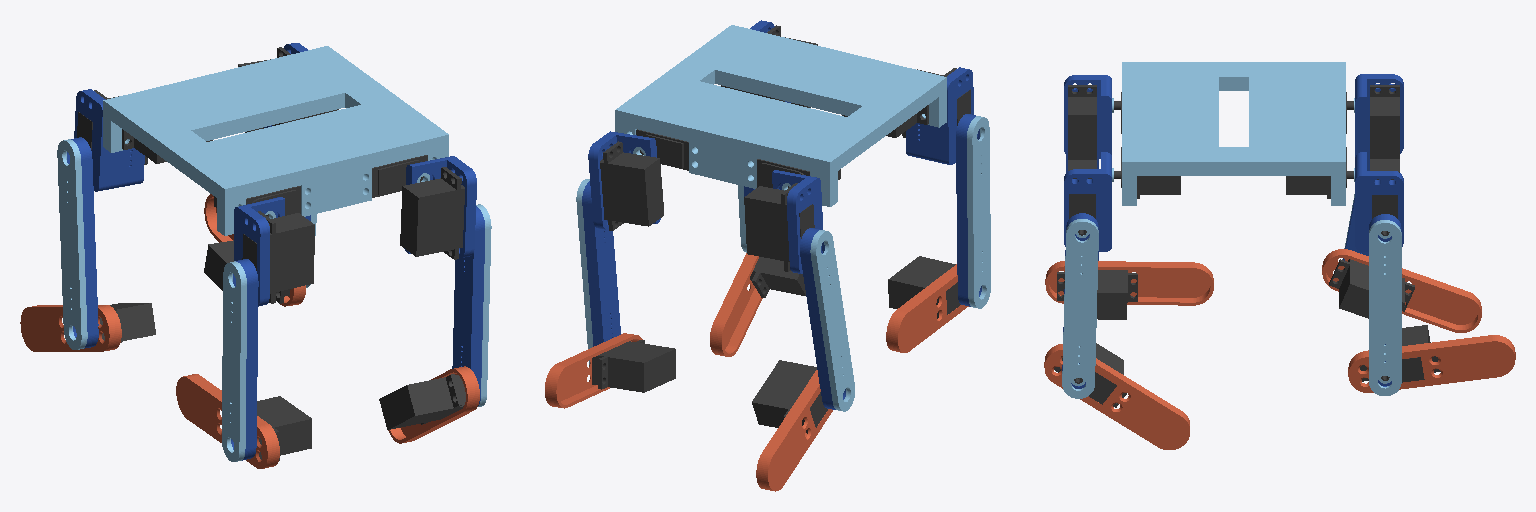
--- Render facts (derived) ---
3 views of the same robot in one strip: view 1: azimuth 30°, elevation 25°; view 2: azimuth 150°, elevation 25°; view 3: azimuth 270°, elevation 25° (orthographic).
Model catbot with 13 links and 12 joints (12 revolute), rooted at mainbody, posed every joint at zero.
Links seen in each view (by area): view 1: mainbody, toplegasm_4, toplegasm_2, hipsubasm, mirroredhipsubasm, botlegasm_2, toplegasm, botlegasm, botlegasm_4, hipsubasm_2, botlegasm_3; view 2: mainbody, botlegasm_4, toplegasm_2, mirroredhipsubasm_2, toplegasm_4, botlegasm_3, hipsubasm_2, botlegasm_2, toplegasm_3, botlegasm, mirroredhipsubasm; view 3: mainbody, botlegasm_2, botlegasm_3, toplegasm, botlegasm_4, toplegasm_3, botlegasm, hipsubasm_2, mirroredhipsubasm, mirroredhipsubasm_2, hipsubasm.
Boxes of the visible links, x1,y1,x2,y2 form: mainbody: (103, 46, 448, 235); toplegasm_4: (57, 137, 98, 349); toplegasm_2: (222, 259, 258, 461); hipsubasm: (400, 156, 476, 259); mirroredhipsubasm: (234, 197, 314, 306); botlegasm_2: (176, 374, 311, 468); toplegasm: (452, 204, 491, 406); botlegasm: (379, 366, 479, 443); botlegasm_4: (20, 303, 155, 351); hipsubasm_2: (74, 89, 147, 191); botlegasm_3: (204, 194, 305, 306); mainbody: (615, 25, 946, 206); botlegasm_4: (752, 360, 832, 491); toplegasm_2: (956, 114, 990, 308); mirroredhipsubasm_2: (588, 131, 663, 230); toplegasm_4: (800, 228, 854, 411); botlegasm_3: (545, 333, 675, 408); hipsubasm_2: (744, 170, 822, 273); botlegasm_2: (886, 256, 968, 352); toplegasm_3: (576, 179, 620, 364); botlegasm: (710, 253, 805, 356); mirroredhipsubasm: (902, 67, 973, 164); mainbody: (1114, 62, 1353, 205); botlegasm_2: (1045, 261, 1213, 319); botlegasm_3: (1348, 325, 1515, 392); toplegasm: (1062, 213, 1098, 398); botlegasm_4: (1322, 249, 1481, 332); toplegasm_3: (1369, 214, 1401, 395); botlegasm: (1044, 343, 1189, 449); hipsubasm_2: (1354, 74, 1403, 158); mirroredhipsubasm: (1064, 75, 1113, 159); mirroredhipsubasm_2: (1354, 152, 1403, 251); hipsubasm: (1064, 152, 1113, 251).
Size in the robot's own frame: 0.1865 by 0.3159 by 0.2182 metres.
41 mesh visuals loaded from 8 distinct referenced files (8 binary STL).

robot.urdf — catbot:
<?xml version="1.0" ?>
<!-- =================================================================================== -->
<!-- |    This document was autogenerated by xacro from catbot.xacro                   | -->
<!-- |    EDITING THIS FILE BY HAND IS NOT RECOMMENDED                                 | -->
<!-- =================================================================================== -->
<robot name="catbot">
  <link name="mainbody">
    <visual>
      <origin rpy="3.141592653589793116 -8.3266726846886728206e-17 3.141592653589793116" xyz="-0.039050405919551792189 -0.1803153499960899464 0.25655598676204682818"/>
      <geometry>
        <mesh filename="package://servobot/description/base.stl"/>
      </geometry>
      <material name="base_material">
        <color rgba="0.61568627450980395466 0.81176470588235294379 0.92941176470588238168 1.0"/>
      </material>
    </visual>
    <collision>
      <origin rpy="3.141592653589793116 -8.3266726846886728206e-17 3.141592653589793116" xyz="-0.039050405919551792189 -0.1803153499960899464 0.25655598676204682818"/>
      <geometry>
        <mesh filename="package://servobot/description/base.stl"/>
      </geometry>
    </collision>
    <visual>
      <origin rpy="0 8.3266726846886728206e-17 0" xyz="-0.16405040591955188933 -0.1405903499960899361 0.23555598676204680952"/>
      <geometry>
        <mesh filename="package://servobot/description/servo.stl"/>
      </geometry>
      <material name="servo_material">
        <color rgba="0.30196078431372547213 0.30196078431372547213 0.30196078431372547213 1.0"/>
      </material>
    </visual>
    <collision>
      <origin rpy="0 8.3266726846886728206e-17 0" xyz="-0.16405040591955188933 -0.1405903499960899361 0.23555598676204680952"/>
      <geometry>
        <mesh filename="package://servobot/description/servo.stl"/>
      </geometry>
    </collision>
    <visual>
      <origin rpy="3.141592653589793116 8.326672684688671588e-17 1.2325951644078224615e-32" xyz="-0.16405040591955183382 -0.070040349996089934503 0.23555598676204680952"/>
      <geometry>
        <mesh filename="package://servobot/description/servo.stl"/>
      </geometry>
      <material name="servo_material">
        <color rgba="0.30196078431372547213 0.30196078431372547213 0.30196078431372547213 1.0"/>
      </material>
    </visual>
    <collision>
      <origin rpy="3.141592653589793116 8.326672684688671588e-17 1.2325951644078224615e-32" xyz="-0.16405040591955183382 -0.070040349996089934503 0.23555598676204680952"/>
      <geometry>
        <mesh filename="package://servobot/description/servo.stl"/>
      </geometry>
    </collision>
    <visual>
      <origin rpy="8.5528470722950151288e-48 -8.3266726846886691228e-17 -3.141592653589793116" xyz="-0.074050405919551823275 -0.070040349996089962259 0.23555598676204683728"/>
      <geometry>
        <mesh filename="package://servobot/description/servo.stl"/>
      </geometry>
      <material name="servo_material">
        <color rgba="0.30196078431372547213 0.30196078431372547213 0.30196078431372547213 1.0"/>
      </material>
    </visual>
    <collision>
      <origin rpy="8.5528470722950151288e-48 -8.3266726846886691228e-17 -3.141592653589793116" xyz="-0.074050405919551823275 -0.070040349996089962259 0.23555598676204683728"/>
      <geometry>
        <mesh filename="package://servobot/description/servo.stl"/>
      </geometry>
    </collision>
    <visual>
      <origin rpy="3.141592653589793116 -8.3266726846886728206e-17 3.141592653589793116" xyz="-0.074050405919551823275 -0.1405903499960899361 0.23555598676204680952"/>
      <geometry>
        <mesh filename="package://servobot/description/servo.stl"/>
      </geometry>
      <material name="servo_material">
        <color rgba="0.30196078431372547213 0.30196078431372547213 0.30196078431372547213 1.0"/>
      </material>
    </visual>
    <collision>
      <origin rpy="3.141592653589793116 -8.3266726846886728206e-17 3.141592653589793116" xyz="-0.074050405919551823275 -0.1405903499960899361 0.23555598676204680952"/>
      <geometry>
        <mesh filename="package://servobot/description/servo.stl"/>
      </geometry>
    </collision>
    <inertial>
      <origin rpy="0 0 0" xyz="-0.11905040591955190488 -0.10531534999608997694 0.24437579780986765088"/>
      <mass value="0.49394823622559713705"/>
      <inertia ixx="0.0013840746330419674819" ixy="-1.084202172485504434e-19" ixz="7.7927031147395631194e-20" iyy="0.0011298530871705141868" iyz="-6.7762635780344027125e-21" izz="0.0024313774487411490312"/>
    </inertial>
  </link>
  <link name="hipsubasm">
    <visual>
      <origin rpy="-1.570796326794896558 -1.570796326794896336 0" xyz="0.009999999999999995004 -0.017290000000000027569 -0.016249999999999986677"/>
      <geometry>
        <mesh filename="package://servobot/description/hipjoint.stl"/>
      </geometry>
      <material name="hipjoint_material">
        <color rgba="0.2313725490196078538 0.38039215686274507888 0.7058823529411765163 1.0"/>
      </material>
    </visual>
    <collision>
      <origin rpy="-1.570796326794896558 -1.570796326794896336 0" xyz="0.009999999999999995004 -0.017290000000000027569 -0.016249999999999986677"/>
      <geometry>
        <mesh filename="package://servobot/description/hipjoint.stl"/>
      </geometry>
    </collision>
    <visual>
      <origin rpy="3.1415926535897926719 -1.4578757702189871054e-16 1.5707963267948981123" xyz="0.018199999999999022515 -0.018114999999999603641 -0.019999999999999962252"/>
      <geometry>
        <mesh filename="package://servobot/description/servo.stl"/>
      </geometry>
      <material name="servo_material">
        <color rgba="0.30196078431372547213 0.30196078431372547213 0.30196078431372547213 1.0"/>
      </material>
    </visual>
    <collision>
      <origin rpy="3.1415926535897926719 -1.4578757702189871054e-16 1.5707963267948981123" xyz="0.018199999999999022515 -0.018114999999999603641 -0.019999999999999962252"/>
      <geometry>
        <mesh filename="package://servobot/description/servo.stl"/>
      </geometry>
    </collision>
    <visual>
      <origin rpy="3.141592653589793116 -1.4578757702189525927e-16 1.5707963267948976682" xyz="-1.3877787807814456755e-17 -2.7755575615628913511e-17 0.0010000000000000008882"/>
      <geometry>
        <mesh filename="package://servobot/description/servohornreplacement.stl"/>
      </geometry>
      <material name="servohornreplacement_material">
        <color rgba="0.61568627450980395466 0.81176470588235294379 0.92941176470588238168 1.0"/>
      </material>
    </visual>
    <collision>
      <origin rpy="3.141592653589793116 -1.4578757702189525927e-16 1.5707963267948976682" xyz="-1.3877787807814456755e-17 -2.7755575615628913511e-17 0.0010000000000000008882"/>
      <geometry>
        <mesh filename="package://servobot/description/servohornreplacement.stl"/>
      </geometry>
    </collision>
    <inertial>
      <origin rpy="0 0 0" xyz="-0.0044848749450654163545 -0.0179728161393723114 -0.016098061730134432396"/>
      <mass value="0.066123103332140956145"/>
      <inertia ixx="1.8384618926580121391e-05" ixy="9.1018315654018470232e-08" ixz="5.6546937137399404566e-07" iyy="1.4043653005047446121e-05" iyz="-8.5254427329847590665e-08" izz="2.2086490787454833752e-05"/>
    </inertial>
  </link>
  <link name="toplegasm">
    <visual>
      <origin rpy="6.4535680925625176344e-18 1.1053377210876282197e-19 -1.1334232708083540627e-18" xyz="2.7755575615628913511e-17 2.7755575615628913511e-17 -0.0057999999999999926614"/>
      <geometry>
        <mesh filename="package://servobot/description/servohornreplacement.stl"/>
      </geometry>
      <material name="servohornreplacement_material">
        <color rgba="0.61568627450980395466 0.81176470588235294379 0.92941176470588238168 1.0"/>
      </material>
    </visual>
    <collision>
      <origin rpy="6.4535680925625176344e-18 1.1053377210876282197e-19 -1.1334232708083540627e-18" xyz="2.7755575615628913511e-17 2.7755575615628913511e-17 -0.0057999999999999926614"/>
      <geometry>
        <mesh filename="package://servobot/description/servohornreplacement.stl"/>
      </geometry>
    </collision>
    <visual>
      <origin rpy="1.5707963267949027752 9.7283936021392146528e-17 4.2901527244577466862e-16" xyz="-2.7755575615628913511e-17 0.055999999999999994227 -0.0078999999999999695466"/>
      <geometry>
        <mesh filename="package://servobot/description/toplegcover.stl"/>
      </geometry>
      <material name="toplegcover_material">
        <color rgba="0.61568627450980395466 0.81176470588235294379 0.92941176470588238168 1.0"/>
      </material>
    </visual>
    <collision>
      <origin rpy="1.5707963267949027752 9.7283936021392146528e-17 4.2901527244577466862e-16" xyz="-2.7755575615628913511e-17 0.055999999999999994227 -0.0078999999999999695466"/>
      <geometry>
        <mesh filename="package://servobot/description/toplegcover.stl"/>
      </geometry>
    </collision>
    <visual>
      <origin rpy="-2.8269602114824775556e-16 -1.0911851513935710802e-15 -7.0458042872546368885e-16" xyz="-2.7755575615628913511e-17 0.11199999999999990519 -0.0057999999999999371503"/>
      <geometry>
        <mesh filename="package://servobot/description/servohornreplacement.stl"/>
      </geometry>
      <material name="servohornreplacement_material">
        <color rgba="0.61568627450980395466 0.81176470588235294379 0.92941176470588238168 1.0"/>
      </material>
    </visual>
    <collision>
      <origin rpy="-2.8269602114824775556e-16 -1.0911851513935710802e-15 -7.0458042872546368885e-16" xyz="-2.7755575615628913511e-17 0.11199999999999990519 -0.0057999999999999371503"/>
      <geometry>
        <mesh filename="package://servobot/description/servohornreplacement.stl"/>
      </geometry>
    </collision>
    <visual>
      <origin rpy="4.7127242992031974377e-16 9.8319183968485824968e-17 4.3206131669943434475e-16" xyz="2.7755575615628913511e-17 0.055999999999999966471 -0.0078999999999999695466"/>
      <geometry>
        <mesh filename="package://servobot/description/topleg.stl"/>
      </geometry>
      <material name="topleg_material">
        <color rgba="0.2313725490196078538 0.38039215686274507888 0.7058823529411765163 1.0"/>
      </material>
    </visual>
    <collision>
      <origin rpy="4.7127242992031974377e-16 9.8319183968485824968e-17 4.3206131669943434475e-16" xyz="2.7755575615628913511e-17 0.055999999999999966471 -0.0078999999999999695466"/>
      <geometry>
        <mesh filename="package://servobot/description/topleg.stl"/>
      </geometry>
    </collision>
    <inertial>
      <origin rpy="0 0 0" xyz="1.3736162901867244619e-17 0.05599999999999997341 -0.0036685463244520771439"/>
      <mass value="0.025684018857765292254"/>
      <inertia ixx="3.3957308422224581862e-05" ixy="1.4605197478834002945e-20" ixz="-1.4471443186448996313e-20" iyy="1.2113689959083558375e-06" iyz="-2.2765166865918425964e-20" izz="3.4913600077066402234e-05"/>
    </inertial>
  </link>
  <link name="botlegasm">
    <visual>
      <origin rpy="-1.570796326794896558 1.8065148292601759323e-18 3.2327904654336294772e-17" xyz="0.010149999999999992362 1.3877787807814456755e-17 -0.040450000000000006783"/>
      <geometry>
        <mesh filename="package://servobot/description/servo.stl"/>
      </geometry>
      <material name="servo_material">
        <color rgba="0.30196078431372547213 0.30196078431372547213 0.30196078431372547213 1.0"/>
      </material>
    </visual>
    <collision>
      <origin rpy="-1.570796326794896558 1.8065148292601759323e-18 3.2327904654336294772e-17" xyz="0.010149999999999992362 1.3877787807814456755e-17 -0.040450000000000006783"/>
      <geometry>
        <mesh filename="package://servobot/description/servo.stl"/>
      </geometry>
    </collision>
    <visual>
      <origin rpy="1.5707963267948972241 6.736598363117247075e-18 -1.570796326794896558" xyz="0.031674480000000004853 -6.9388939039072283776e-18 2.5000000000004185541e-05"/>
      <geometry>
        <mesh filename="package://servobot/description/botleg.stl"/>
      </geometry>
      <material name="botleg_material">
        <color rgba="0.87450980392156862919 0.44705882352941178626 0.31764705882352939348 1.0"/>
      </material>
    </visual>
    <collision>
      <origin rpy="1.5707963267948972241 6.736598363117247075e-18 -1.570796326794896558" xyz="0.031674480000000004853 -6.9388939039072283776e-18 2.5000000000004185541e-05"/>
      <geometry>
        <mesh filename="package://servobot/description/botleg.stl"/>
      </geometry>
    </collision>
    <inertial>
      <origin rpy="0 0 0" xyz="0.014355235822870536511 3.4914390159032126384e-12 -0.017241727750089003157"/>
      <mass value="0.054645620986758416948"/>
      <inertia ixx="1.0916296677110458714e-05" ixy="7.8802063165292541799e-16" ixz="-3.3092987108633480716e-06" iyy="3.0288527521158881335e-05" iyz="-3.1738908324763525493e-15" izz="2.4422062954015746769e-05"/>
    </inertial>
  </link>
  <joint name="BR_BotLeg" type="revolute">
    <origin rpy="-3.1415926535897886751 -7.0938256185667662878e-15 0.58170270124798439948" xyz="-2.7755575615628913511e-17 0.11199999999999990519 5.5511151231257827021e-17"/>
    <parent link="toplegasm"/>
    <child link="botlegasm"/>
    <axis xyz="0 0 1"/>
    <limit effort="1" velocity="20"/>
    <joint_properties friction="0.0"/>
  </joint>
  <joint name="BR_TopLeg" type="revolute">
    <origin rpy="-1.5707963267948958919 -1.5476780753609129526 -1.5707963267949160979" xyz="-0.022249999999999943434 -0.028264999999999401714 -0.019999999999999990008"/>
    <parent link="hipsubasm"/>
    <child link="toplegasm"/>
    <axis xyz="0 0 1"/>
    <limit effort="1" lower="-1.570796326794896558" upper="1.570796326794896558" velocity="20"/>
    <joint_properties friction="0.0"/>
  </joint>
  <joint name="BR_Hip" type="revolute">
    <origin rpy="1.570796326794896558 -0.041547970194335065441 3.141592653589793116" xyz="-0.063900405919551844791 -0.18684034999608994942 0.23555598676204686504"/>
    <parent link="mainbody"/>
    <child link="hipsubasm"/>
    <axis xyz="0 0 1"/>
    <limit effort="1" lower="-0.785398163397448279" upper="0.785398163397448279" velocity="20"/>
    <joint_properties friction="0.0"/>
  </joint>
  <link name="mirroredhipsubasm">
    <visual>
      <origin rpy="-2.6082961837183532655e-16 -1.7701259958948961988e-16 -1.5707963267948961139" xyz="0.018199999999999966205 0.018114999999999936708 -0.020000000000000017764"/>
      <geometry>
        <mesh filename="package://servobot/description/servo.stl"/>
      </geometry>
      <material name="servo_material">
        <color rgba="0.30196078431372547213 0.30196078431372547213 0.30196078431372547213 1.0"/>
      </material>
    </visual>
    <collision>
      <origin rpy="-2.6082961837183532655e-16 -1.7701259958948961988e-16 -1.5707963267948961139" xyz="0.018199999999999966205 0.018114999999999936708 -0.020000000000000017764"/>
      <geometry>
        <mesh filename="package://servobot/description/servo.stl"/>
      </geometry>
    </collision>
    <visual>
      <origin rpy="1.570796326794896558 1.570796326794896336 0" xyz="0.0099999999999999811262 0.017289999999999972058 -0.023749999999999993339"/>
      <geometry>
        <mesh filename="package://servobot/description/mirrorhipjoint.stl"/>
      </geometry>
      <material name="mirrorhipjoint_material">
        <color rgba="0.2313725490196078538 0.38039215686274507888 0.7058823529411765163 1.0"/>
      </material>
    </visual>
    <collision>
      <origin rpy="1.570796326794896558 1.570796326794896336 0" xyz="0.0099999999999999811262 0.017289999999999972058 -0.023749999999999993339"/>
      <geometry>
        <mesh filename="package://servobot/description/mirrorhipjoint.stl"/>
      </geometry>
    </collision>
    <visual>
      <origin rpy="-3.1415926535897926719 9.9992864631340462803e-17 3.141592653589793116" xyz="0 -2.7755575615628913511e-17 0.0010000000000000286438"/>
      <geometry>
        <mesh filename="package://servobot/description/servohornreplacement.stl"/>
      </geometry>
      <material name="servohornreplacement_material">
        <color rgba="0.61568627450980395466 0.81176470588235294379 0.92941176470588238168 1.0"/>
      </material>
    </visual>
    <collision>
      <origin rpy="-3.1415926535897926719 9.9992864631340462803e-17 3.141592653589793116" xyz="0 -2.7755575615628913511e-17 0.0010000000000000286438"/>
      <geometry>
        <mesh filename="package://servobot/description/servohornreplacement.stl"/>
      </geometry>
    </collision>
    <inertial>
      <origin rpy="0 0 0" xyz="-0.0044848749450651335946 0.017972816139372491812 -0.016098061730134460151"/>
      <mass value="0.066123103332140956145"/>
      <inertia ixx="1.8384618926580538131e-05" ixy="-9.101831565405955133e-08" ixz="5.654693713740800195e-07" iyy="1.4043653005047930624e-05" iyz="8.5254427329908709386e-08" izz="2.2086490787454935396e-05"/>
    </inertial>
  </link>
  <link name="toplegasm_2">
    <visual>
      <origin rpy="-8.7266791005281888125e-19 3.0532008149613898383e-32 2.0260783014953721174e-31" xyz="0 2.7755575615628913511e-17 -0.0057999999999999996003"/>
      <geometry>
        <mesh filename="package://servobot/description/servohornreplacement.stl"/>
      </geometry>
      <material name="servohornreplacement_material">
        <color rgba="0.61568627450980395466 0.81176470588235294379 0.92941176470588238168 1.0"/>
      </material>
    </visual>
    <collision>
      <origin rpy="-8.7266791005281888125e-19 3.0532008149613898383e-32 2.0260783014953721174e-31" xyz="0 2.7755575615628913511e-17 -0.0057999999999999996003"/>
      <geometry>
        <mesh filename="package://servobot/description/servohornreplacement.stl"/>
      </geometry>
    </collision>
    <visual>
      <origin rpy="1.5707963267948996666 -5.4942891350651959144e-18 1.8059105904150631138e-18" xyz="8.3266726846886740532e-17 0.056000000000000382805 -0.0078999999999998515854"/>
      <geometry>
        <mesh filename="package://servobot/description/toplegcover.stl"/>
      </geometry>
      <material name="toplegcover_material">
        <color rgba="0.61568627450980395466 0.81176470588235294379 0.92941176470588238168 1.0"/>
      </material>
    </visual>
    <collision>
      <origin rpy="1.5707963267948996666 -5.4942891350651959144e-18 1.8059105904150631138e-18" xyz="8.3266726846886740532e-17 0.056000000000000382805 -0.0078999999999998515854"/>
      <geometry>
        <mesh filename="package://servobot/description/toplegcover.stl"/>
      </geometry>
    </collision>
    <visual>
      <origin rpy="3.5133189178907857781e-15 7.0556949157424066037e-21 3.469768556812397091e-18" xyz="1.9428902930940239457e-16 0.11200000000000062683 -0.0057999999999996110223"/>
      <geometry>
        <mesh filename="package://servobot/description/servohornreplacement.stl"/>
      </geometry>
      <material name="servohornreplacement_material">
        <color rgba="0.61568627450980395466 0.81176470588235294379 0.92941176470588238168 1.0"/>
      </material>
    </visual>
    <collision>
      <origin rpy="3.5133189178907857781e-15 7.0556949157424066037e-21 3.469768556812397091e-18" xyz="1.9428902930940239457e-16 0.11200000000000062683 -0.0057999999999996110223"/>
      <geometry>
        <mesh filename="package://servobot/description/servohornreplacement.stl"/>
      </geometry>
    </collision>
    <visual>
      <origin rpy="3.5098494709388321639e-15 1.2747625593706508062e-21 1.7348578419795400101e-18" xyz="8.3266726846886740532e-17 0.056000000000000327294 -0.0078999999999998238298"/>
      <geometry>
        <mesh filename="package://servobot/description/topleg.stl"/>
      </geometry>
      <material name="topleg_material">
        <color rgba="0.2313725490196078538 0.38039215686274507888 0.7058823529411765163 1.0"/>
      </material>
    </visual>
    <collision>
      <origin rpy="3.5098494709388321639e-15 1.2747625593706508062e-21 1.7348578419795400101e-18" xyz="8.3266726846886740532e-17 0.056000000000000327294 -0.0078999999999998238298"/>
      <geometry>
        <mesh filename="package://servobot/description/topleg.stl"/>
      </geometry>
    </collision>
    <inertial>
      <origin rpy="0 0 0" xyz="7.8537835927160718487e-17 0.056000000000000341172 -0.0036685463244519214525"/>
      <mass value="0.025684018857765292254"/>
      <inertia ixx="3.3957308422224920675e-05" ixy="-2.0629561261755546244e-21" ixz="5.2531036313452856353e-20" iyy="1.2113689959083712958e-06" iyz="-3.7847965899051524873e-21" izz="3.4913600077066578417e-05"/>
    </inertial>
  </link>
  <link name="botlegasm_2">
    <visual>
      <origin rpy="-1.570796326794896558 8.055100413464512593e-22 1.7056915740222492149e-18" xyz="0.010149999999999992362 1.3877787807814456755e-17 -0.040449999999999985967"/>
      <geometry>
        <mesh filename="package://servobot/description/servo.stl"/>
      </geometry>
      <material name="servo_material">
        <color rgba="0.30196078431372547213 0.30196078431372547213 0.30196078431372547213 1.0"/>
      </material>
    </visual>
    <collision>
      <origin rpy="-1.570796326794896558 8.055100413464512593e-22 1.7056915740222492149e-18" xyz="0.010149999999999992362 1.3877787807814456755e-17 -0.040449999999999985967"/>
      <geometry>
        <mesh filename="package://servobot/description/servo.stl"/>
      </geometry>
    </collision>
    <visual>
      <origin rpy="1.570796326794896558 3.1787495007411310963e-16 -1.570796326794896336" xyz="0.031674480000000032609 0 2.4999999999997246647e-05"/>
      <geometry>
        <mesh filename="package://servobot/description/botleg.stl"/>
      </geometry>
      <material name="botleg_material">
        <color rgba="0.87450980392156862919 0.44705882352941178626 0.31764705882352939348 1.0"/>
      </material>
    </visual>
    <collision>
      <origin rpy="1.570796326794896558 3.1787495007411310963e-16 -1.570796326794896336" xyz="0.031674480000000032609 0 2.4999999999997246647e-05"/>
      <geometry>
        <mesh filename="package://servobot/description/botleg.stl"/>
      </geometry>
    </collision>
    <inertial>
      <origin rpy="0 0 0" xyz="0.01435523582287053998 3.4914399578262060761e-12 -0.017241727750088992749"/>
      <mass value="0.054645620986758416948"/>
      <inertia ixx="1.091629667711044855e-05" ixy="7.8801665499142670343e-16" ixz="-3.3092987108633302839e-06" iyy="3.0288527521159030412e-05" iyz="-3.1738829266149533627e-15" izz="2.4422062954015750157e-05"/>
    </inertial>
  </link>
  <joint name="BL_BotLeg" type="revolute">
    <origin rpy="3.1415926535897926719 -1.0243549092722601103e-15 3.1262445307774839875" xyz="1.9428902930940239457e-16 0.11200000000000062683 3.8857805861880478915e-16"/>
    <parent link="toplegasm_2"/>
    <child link="botlegasm_2"/>
    <axis xyz="0 0 1"/>
    <limit effort="1" velocity="20"/>
    <joint_properties friction="0.0"/>
  </joint>
  <joint name="BL_TopLeg" type="revolute">
    <origin rpy="1.0152967728242205898e-15 1.5707963267948952257 0" xyz="-0.022250000000000019762 0.02826499999999992907 -0.020000000000000017764"/>
    <parent link="mirroredhipsubasm"/>
    <child link="toplegasm_2"/>
    <axis xyz="0 0 1"/>
    <limit effort="1" lower="-1.570796326794896558" upper="1.570796326794896558" velocity="20"/>
    <joint_properties friction="0.0"/>
  </joint>
  <joint name="BL_Hip" type="revolute">
    <origin rpy="-1.57079632679489678 0.0117328984293165791 1.2601170739682348073e-15" xyz="-0.17420040591955210374 -0.18684034999608997718 0.23555598676204667075"/>
    <parent link="mainbody"/>
    <child link="mirroredhipsubasm"/>
    <axis xyz="0 0 1"/>
    <limit effort="1" lower="-0.785398163397448279" upper="0.785398163397448279" velocity="20"/>
    <joint_properties friction="0.0"/>
  </joint>
  <link name="mirroredhipsubasm_2">
    <visual>
      <origin rpy="-2.6082961837181299193e-16 -1.7701259958947004627e-16 -1.570796326794896336" xyz="0.018199999999999896816 0.018115000000000103242 -0.020000000000000014294"/>
      <geometry>
        <mesh filename="package://servobot/description/servo.stl"/>
      </geometry>
      <material name="servo_material">
        <color rgba="0.30196078431372547213 0.30196078431372547213 0.30196078431372547213 1.0"/>
      </material>
    </visual>
    <collision>
      <origin rpy="-2.6082961837181299193e-16 -1.7701259958947004627e-16 -1.570796326794896336" xyz="0.018199999999999896816 0.018115000000000103242 -0.020000000000000014294"/>
      <geometry>
        <mesh filename="package://servobot/description/servo.stl"/>
      </geometry>
    </collision>
    <visual>
      <origin rpy="1.570796326794896558 1.570796326794896336 0" xyz="0.009999999999999995004 0.017289999999999999813 -0.023750000000000003747"/>
      <geometry>
        <mesh filename="package://servobot/description/mirrorhipjoint.stl"/>
      </geometry>
      <material name="mirrorhipjoint_material">
        <color rgba="0.2313725490196078538 0.38039215686274507888 0.7058823529411765163 1.0"/>
      </material>
    </visual>
    <collision>
      <origin rpy="1.570796326794896558 1.570796326794896336 0" xyz="0.009999999999999995004 0.017289999999999999813 -0.023750000000000003747"/>
      <geometry>
        <mesh filename="package://servobot/description/mirrorhipjoint.stl"/>
      </geometry>
    </collision>
    <visual>
      <origin rpy="-3.141592653589793116 -8.5063560020394949213e-16 -3.141592653589793116" xyz="-1.3877787807814456755e-17 0 0.00099999999999999741873"/>
      <geometry>
        <mesh filename="package://servobot/description/servohornreplacement.stl"/>
      </geometry>
      <material name="servohornreplacement_material">
        <color rgba="0.61568627450980395466 0.81176470588235294379 0.92941176470588238168 1.0"/>
      </material>
    </visual>
    <collision>
      <origin rpy="-3.141592653589793116 -8.5063560020394949213e-16 -3.141592653589793116" xyz="-1.3877787807814456755e-17 0 0.00099999999999999741873"/>
      <geometry>
        <mesh filename="package://servobot/description/servohornreplacement.stl"/>
      </geometry>
    </collision>
    <inertial>
      <origin rpy="0 0 0" xyz="-0.0044848749450651778301 0.017972816139372616712 -0.016098061730134460151"/>
      <mass value="0.066123103332140956145"/>
      <inertia ixx="1.8384618926580541519e-05" ixy="-9.1018315654073249441e-08" ixz="5.6546937137406360824e-07" iyy="1.4043653005047911989e-05" iyz="8.5254427329935179166e-08" izz="2.2086490787454918455e-05"/>
    </inertial>
  </link>
  <link name="toplegasm_3">
    <visual>
      <origin rpy="6.7942467602186101967e-19 8.0579397599774070036e-32 -1.2664528845269139064e-32" xyz="0 0 -0.0057999999999999926614"/>
      <geometry>
        <mesh filename="package://servobot/description/servohornreplacement.stl"/>
      </geometry>
      <material name="servohornreplacement_material">
        <color rgba="0.61568627450980395466 0.81176470588235294379 0.92941176470588238168 1.0"/>
      </material>
    </visual>
    <collision>
      <origin rpy="6.7942467602186101967e-19 8.0579397599774070036e-32 -1.2664528845269139064e-32" xyz="0 0 -0.0057999999999999926614"/>
      <geometry>
        <mesh filename="package://servobot/description/servohornreplacement.stl"/>
      </geometry>
    </collision>
    <visual>
      <origin rpy="1.5707963267948978903 -1.1134776791955550731e-15 9.2917581050318985147e-17" xyz="2.4286128663675299322e-17 0.056000000000001437517 -0.0079000000000000458744"/>
      <geometry>
        <mesh filename="package://servobot/description/toplegcover.stl"/>
      </geometry>
      <material name="toplegcover_material">
        <color rgba="0.61568627450980395466 0.81176470588235294379 0.92941176470588238168 1.0"/>
      </material>
    </visual>
    <collision>
      <origin rpy="1.5707963267948978903 -1.1134776791955550731e-15 9.2917581050318985147e-17" xyz="2.4286128663675299322e-17 0.056000000000001437517 -0.0079000000000000458744"/>
      <geometry>
        <mesh filename="package://servobot/description/toplegcover.stl"/>
      </geometry>
    </collision>
    <visual>
      <origin rpy="3.4267672224138618857e-15 -3.9512971347930942641e-15 7.9037649853328943305e-17" xyz="9.5843472047718591966e-17 0.11200000000000286116 -0.0058000000000000065392"/>
      <geometry>
        <mesh filename="package://servobot/description/servohornreplacement.stl"/>
      </geometry>
      <material name="servohornreplacement_material">
        <color rgba="0.61568627450980395466 0.81176470588235294379 0.92941176470588238168 1.0"/>
      </material>
    </visual>
    <collision>
      <origin rpy="3.4267672224138618857e-15 -3.9512971347930942641e-15 7.9037649853328943305e-17" xyz="9.5843472047718591966e-17 0.11200000000000286116 -0.0058000000000000065392"/>
      <geometry>
        <mesh filename="package://servobot/description/servohornreplacement.stl"/>
      </geometry>
    </collision>
    <visual>
      <origin rpy="1.2726230873573110323e-15 -1.1134776791955550731e-15 9.2917581050318972821e-17" xyz="6.8521577301083880229e-17 0.056000000000001437517 -0.0079000000000000528133"/>
      <geometry>
        <mesh filename="package://servobot/description/topleg.stl"/>
      </geometry>
      <material name="topleg_material">
        <color rgba="0.2313725490196078538 0.38039215686274507888 0.7058823529411765163 1.0"/>
      </material>
    </visual>
    <collision>
      <origin rpy="1.2726230873573110323e-15 -1.1134776791955550731e-15 9.2917581050318972821e-17" xyz="6.8521577301083880229e-17 0.056000000000001437517 -0.0079000000000000528133"/>
      <geometry>
        <mesh filename="package://servobot/description/topleg.stl"/>
      </geometry>
    </collision>
    <inertial>
      <origin rpy="0 0 0" xyz="5.4815080311377476443e-17 0.056000000000001451395 -0.0036685463244520480873"/>
      <mass value="0.025684018857765292254"/>
      <inertia ixx="3.3957308422224663177e-05" ixy="2.0666754946936252272e-21" ixz="2.4445301591710026212e-20" iyy="1.2113689959084200002e-06" iyz="3.3627625392044776383e-20" izz="3.4913600077068258931e-05"/>
    </inertial>
  </link>
  <link name="botlegasm_3">
    <visual>
      <origin rpy="-1.570796326794896558 7.6524612521867894126e-19 3.9767968679596653297e-18" xyz="0.010150000000000001035 0 -0.040450000000000006783"/>
      <geometry>
        <mesh filename="package://servobot/description/servo.stl"/>
      </geometry>
      <material name="servo_material">
        <color rgba="0.30196078431372547213 0.30196078431372547213 0.30196078431372547213 1.0"/>
      </material>
    </visual>
    <collision>
      <origin rpy="-1.570796326794896558 7.6524612521867894126e-19 3.9767968679596653297e-18" xyz="0.010150000000000001035 0 -0.040450000000000006783"/>
      <geometry>
        <mesh filename="package://servobot/description/servo.stl"/>
      </geometry>
    </collision>
    <visual>
      <origin rpy="1.570796326794896558 -6.7338341974110647865e-18 -1.570796326794896558" xyz="0.031674480000000011792 -1.3877787807814456755e-17 2.5000000000004185541e-05"/>
      <geometry>
        <mesh filename="package://servobot/description/botleg.stl"/>
      </geometry>
      <material name="botleg_material">
        <color rgba="0.87450980392156862919 0.44705882352941178626 0.31764705882352939348 1.0"/>
      </material>
    </visual>
    <collision>
      <origin rpy="1.570796326794896558 -6.7338341974110647865e-18 -1.570796326794896558" xyz="0.031674480000000011792 -1.3877787807814456755e-17 2.5000000000004185541e-05"/>
      <geometry>
        <mesh filename="package://servobot/description/botleg.stl"/>
      </geometry>
    </collision>
    <inertial>
      <origin rpy="0 0 0" xyz="0.014355235822870545184 3.4914256349853136889e-12 -0.017241727750089006627"/>
      <mass value="0.054645620986758416948"/>
      <inertia ixx="1.091629667711045702e-05" ixy="7.8802065449818725101e-16" ixz="-3.3092987108633463775e-06" iyy="3.0288527521158888111e-05" iyz="-3.1738840311530187002e-15" izz="2.4422062954015739993e-05"/>
    </inertial>
  </link>
  <joint name="FR_BotLeg" type="revolute">
    <origin rpy="-3.1415926535897922278 -4.3401406628148288015e-16 -0.14343495739683284618" xyz="9.4108748571741784872e-17 0.11200000000000287503 3.0531133177191804862e-16"/>
    <parent link="toplegasm_3"/>
    <child link="botlegasm_3"/>
    <axis xyz="0 0 1"/>
    <limit effort="1" velocity="20"/>
    <joint_properties friction="0.0"/>
  </joint>
  <joint name="FR_TopLeg" type="revolute">
    <origin rpy="-2.696149045489602097e-16 1.5707963267948956698 0" xyz="-0.022250000000000103029 0.028265000000000067848 -0.020000000000000007355"/>
    <parent link="mirroredhipsubasm_2"/>
    <child link="toplegasm_3"/>
    <axis xyz="0 0 1"/>
    <limit effort="1" lower="-1.570796326794896558" upper="1.570796326794896558" velocity="20"/>
    <joint_properties friction="0.0"/>
  </joint>
  <joint name="FR_Hip" type="revolute">
    <origin rpy="-1.570796326794896558 -0.082892067804055696856 -3.141592653589793116" xyz="-0.063900405919551941936 -0.023790349996089938528 0.23555598676204683728"/>
    <parent link="mainbody"/>
    <child link="mirroredhipsubasm_2"/>
    <axis xyz="0 0 1"/>
    <limit effort="1" lower="-0.785398163397448279" upper="0.785398163397448279" velocity="20"/>
    <joint_properties friction="0.0"/>
  </joint>
  <link name="hipsubasm_2">
    <visual>
      <origin rpy="-1.570796326794896558 -1.570796326794896336 0" xyz="0.010000000000000008882 -0.017289999999999999813 -0.016250000000000004025"/>
      <geometry>
        <mesh filename="package://servobot/description/hipjoint.stl"/>
      </geometry>
      <material name="hipjoint_material">
        <color rgba="0.2313725490196078538 0.38039215686274507888 0.7058823529411765163 1.0"/>
      </material>
    </visual>
    <collision>
      <origin rpy="-1.570796326794896558 -1.570796326794896336 0" xyz="0.010000000000000008882 -0.017289999999999999813 -0.016250000000000004025"/>
      <geometry>
        <mesh filename="package://servobot/description/hipjoint.stl"/>
      </geometry>
    </collision>
    <visual>
      <origin rpy="3.141592653589793116 -1.7701259958947012023e-16 1.5707963267949021091" xyz="0.018199999999999771916 -0.018114999999999853442 -0.020000000000000000416"/>
      <geometry>
        <mesh filename="package://servobot/description/servo.stl"/>
      </geometry>
      <material name="servo_material">
        <color rgba="0.30196078431372547213 0.30196078431372547213 0.30196078431372547213 1.0"/>
      </material>
    </visual>
    <collision>
      <origin rpy="3.141592653589793116 -1.7701259958947012023e-16 1.5707963267949021091" xyz="0.018199999999999771916 -0.018114999999999853442 -0.020000000000000000416"/>
      <geometry>
        <mesh filename="package://servobot/description/servo.stl"/>
      </geometry>
    </collision>
    <visual>
      <origin rpy="-3.141592653589793116 -2.8675843948170604383e-16 1.5707963267948974462" xyz="8.3266726846886740532e-17 -8.3266726846886740532e-17 0.00099999999999999741873"/>
      <geometry>
        <mesh filename="package://servobot/description/servohornreplacement.stl"/>
      </geometry>
      <material name="servohornreplacement_material">
        <color rgba="0.61568627450980395466 0.81176470588235294379 0.92941176470588238168 1.0"/>
      </material>
    </visual>
    <collision>
      <origin rpy="-3.141592653589793116 -2.8675843948170604383e-16 1.5707963267948974462" xyz="8.3266726846886740532e-17 -8.3266726846886740532e-17 0.00099999999999999741873"/>
      <geometry>
        <mesh filename="package://servobot/description/servohornreplacement.stl"/>
      </geometry>
    </collision>
    <inertial>
      <origin rpy="0 0 0" xyz="-0.0044848749450651734932 -0.017972816139372453648 -0.016098061730134456682"/>
      <mass value="0.066123103332140956145"/>
      <inertia ixx="1.8384618926580439875e-05" ixy="9.1018315654003991263e-08" ixz="5.6546937137399923374e-07" iyy="1.4043653005047835756e-05" iyz="-8.5254427329923003067e-08" izz="2.2086490787454908291e-05"/>
    </inertial>
  </link>
  <link name="toplegasm_4">
    <visual>
      <origin rpy="7.5160013437390121629e-18 -7.6387646900497724963e-20 -1.5053115700625736801e-17" xyz="0 0 -0.0057999999999999996003"/>
      <geometry>
        <mesh filename="package://servobot/description/servohornreplacement.stl"/>
      </geometry>
      <material name="servohornreplacement_material">
        <color rgba="0.61568627450980395466 0.81176470588235294379 0.92941176470588238168 1.0"/>
      </material>
    </visual>
    <collision>
      <origin rpy="7.5160013437390121629e-18 -7.6387646900497724963e-20 -1.5053115700625736801e-17" xyz="0 0 -0.0057999999999999996003"/>
      <geometry>
        <mesh filename="package://servobot/description/servohornreplacement.stl"/>
      </geometry>
    </collision>
    <visual>
      <origin rpy="1.5707963267948821251 -1.6729811401829660442e-15 -2.6266809264166584501e-16" xyz="2.0816681711721685133e-17 0.055999999999999022782 -0.0079000000000006287415"/>
      <geometry>
        <mesh filename="package://servobot/description/toplegcover.stl"/>
      </geometry>
      <material name="toplegcover_material">
        <color rgba="0.61568627450980395466 0.81176470588235294379 0.92941176470588238168 1.0"/>
      </material>
    </visual>
    <collision>
      <origin rpy="1.5707963267948821251 -1.6729811401829660442e-15 -2.6266809264166584501e-16" xyz="2.0816681711721685133e-17 0.055999999999999022782 -0.0079000000000006287415"/>
      <geometry>
        <mesh filename="package://servobot/description/toplegcover.stl"/>
      </geometry>
    </collision>
    <visual>
      <origin rpy="-3.8631057178554569328e-15 -1.5108548980867523676e-15 -1.5627294902063848932e-15" xyz="2.0816681711721685133e-17 0.11199999999999782352 -0.0058000000000013596235"/>
      <geometry>
        <mesh filename="package://servobot/description/servohornreplacement.stl"/>
      </geometry>
      <material name="servohornreplacement_material">
        <color rgba="0.61568627450980395466 0.81176470588235294379 0.92941176470588238168 1.0"/>
      </material>
    </visual>
    <collision>
      <origin rpy="-3.8631057178554569328e-15 -1.5108548980867523676e-15 -1.5627294902063848932e-15" xyz="2.0816681711721685133e-17 0.11199999999999782352 -0.0058000000000013596235"/>
      <geometry>
        <mesh filename="package://servobot/description/servohornreplacement.stl"/>
      </geometry>
    </collision>
    <visual>
      <origin rpy="-1.2142976704490132923e-14 -1.6867908295571865296e-15 -2.0149246966698327638e-16" xyz="2.7755575615628913511e-17 0.055999999999998939515 -0.0079000000000006564971"/>
      <geometry>
        <mesh filename="package://servobot/description/topleg.stl"/>
      </geometry>
      <material name="topleg_material">
        <color rgba="0.2313725490196078538 0.38039215686274507888 0.7058823529411765163 1.0"/>
      </material>
    </visual>
    <collision>
      <origin rpy="-1.2142976704490132923e-14 -1.6867908295571865296e-15 -2.0149246966698327638e-16" xyz="2.7755575615628913511e-17 0.055999999999998939515 -0.0079000000000006564971"/>
      <geometry>
        <mesh filename="package://servobot/description/topleg.stl"/>
      </geometry>
    </collision>
    <inertial>
      <origin rpy="0 0 0" xyz="2.0832920427240510942e-17 0.055999999999998946454 -0.003668546324452771467"/>
      <mass value="0.025684018857765292254"/>
      <inertia ixx="3.3957308422225435671e-05" ixy="-6.5115555069448644326e-21" ixz="9.5339284384694466486e-20" iyy="1.2113689959083113683e-06" iyz="1.9107590002115889317e-20" izz="3.4913600077066226052e-05"/>
    </inertial>
  </link>
  <link name="botlegasm_4">
    <visual>
      <origin rpy="-1.570796326794896558 2.4506026367203964676e-18 1.3197822279268751318e-17" xyz="0.010149999999999999301 -1.3877787807814456755e-17 -0.040449999999999985967"/>
      <geometry>
        <mesh filename="package://servobot/description/servo.stl"/>
      </geometry>
      <material name="servo_material">
        <color rgba="0.30196078431372547213 0.30196078431372547213 0.30196078431372547213 1.0"/>
      </material>
    </visual>
    <collision>
      <origin rpy="-1.570796326794896558 2.4506026367203964676e-18 1.3197822279268751318e-17" xyz="0.010149999999999999301 -1.3877787807814456755e-17 -0.040449999999999985967"/>
      <geometry>
        <mesh filename="package://servobot/description/servo.stl"/>
      </geometry>
    </collision>
    <visual>
      <origin rpy="1.570796326794896558 4.9951935681386821951e-18 -1.570796326794896558" xyz="0.031674480000000004853 -4.1633363423443370266e-17 2.4999999999997246647e-05"/>
      <geometry>
        <mesh filename="package://servobot/description/botleg.stl"/>
      </geometry>
      <material name="botleg_material">
        <color rgba="0.87450980392156862919 0.44705882352941178626 0.31764705882352939348 1.0"/>
      </material>
    </visual>
    <collision>
      <origin rpy="1.570796326794896558 4.9951935681386821951e-18 -1.570796326794896558" xyz="0.031674480000000004853 -4.1633363423443370266e-17 2.4999999999997246647e-05"/>
      <geometry>
        <mesh filename="package://servobot/description/botleg.stl"/>
      </geometry>
    </collision>
    <inertial>
      <origin rpy="0 0 0" xyz="0.01435523582287054345 3.491409584334777763e-12 -0.017241727750088992749"/>
      <mass value="0.054645620986758416948"/>
      <inertia ixx="1.0916296677110445162e-05" ixy="7.8802240644793594371e-16" ixz="-3.3092987108633387542e-06" iyy="3.0288527521158867782e-05" iyz="-3.173887956368437763e-15" izz="2.4422062954015821308e-05"/>
    </inertial>
  </link>
  <joint name="FL_BotLeg" type="revolute">
    <origin rpy="-3.1415926535897784611 4.6425528594852074692e-15 2.9239169939649158891" xyz="4.1633363423443370266e-17 0.11199999999999782352 -1.3322676295501878485e-15"/>
    <parent link="toplegasm_4"/>
    <child link="botlegasm_4"/>
    <axis xyz="0 0 1"/>
    <limit effort="1" velocity="20"/>
    <joint_properties friction="0.0"/>
  </joint>
  <joint name="FL_TopLeg" type="revolute">
    <origin rpy="1.570796326794896558 -1.4084388595620607187 1.5707963267949249797" xyz="-0.022249999999999825473 -0.028264999999999845803 -0.020000000000000003886"/>
    <parent link="hipsubasm_2"/>
    <child link="toplegasm_4"/>
    <axis xyz="0 0 1"/>
    <limit effort="1" lower="-1.570796326794896558" upper="1.570796326794896558" velocity="20"/>
    <joint_properties friction="0.0"/>
  </joint>
  <joint name="FL_Hip" type="revolute">
    <origin rpy="1.570796326794896558 0.053772588985834847419 2.2234000273411940108e-16" xyz="-0.17420040591955185394 -0.023790349996089921181 0.23555598676204680952"/>
    <parent link="mainbody"/>
    <child link="hipsubasm_2"/>
    <axis xyz="0 0 1"/>
    <limit effort="1" lower="-0.785398163397448279" upper="0.785398163397448279" velocity="20"/>
    <joint_properties friction="0.0"/>
  </joint>
  <ros2_control name="CatbotIgnition" type="system">
    <hardware>
      <plugin>ign_ros2_control/IgnitionSystem</plugin>
    </hardware>
    <joint name="BR_BotLeg">
      <command_interface name="position"/>
      <state_interface name="position">
        <param name="initial_value">0.0</param>
      </state_interface>
      <state_interface name="velocity"/>
      <state_interface name="effort"/>
    </joint>
    <joint name="BR_TopLeg">
      <command_interface name="position"/>
      <state_interface name="position">
        <param name="initial_value">0.0</param>
      </state_interface>
      <state_interface name="velocity"/>
      <state_interface name="effort"/>
    </joint>
    <joint name="BR_Hip">
      <command_interface name="position"/>
      <state_interface name="position">
        <param name="initial_value">0.0</param>
      </state_interface>
      <state_interface name="velocity"/>
      <state_interface name="effort"/>
    </joint>
    <joint name="BL_BotLeg">
      <command_interface name="position"/>
      <state_interface name="position">
        <param name="initial_value">0.0</param>
      </state_interface>
      <state_interface name="velocity"/>
      <state_interface name="effort"/>
    </joint>
    <joint name="BL_TopLeg">
      <command_interface name="position"/>
      <state_interface name="position">
        <param name="initial_value">0.0</param>
      </state_interface>
      <state_interface name="velocity"/>
      <state_interface name="effort"/>
    </joint>
    <joint name="BL_Hip">
      <command_interface name="position"/>
      <state_interface name="position">
        <param name="initial_value">0.0</param>
      </state_interface>
      <state_interface name="velocity"/>
      <state_interface name="effort"/>
    </joint>
    <joint name="FR_BotLeg">
      <command_interface name="position"/>
      <state_interface name="position">
        <param name="initial_value">0.0</param>
      </state_interface>
      <state_interface name="velocity"/>
      <state_interface name="effort"/>
    </joint>
    <joint name="FR_TopLeg">
      <command_interface name="position"/>
      <state_interface name="position">
        <param name="initial_value">0.0</param>
      </state_interface>
      <state_interface name="velocity"/>
      <state_interface name="effort"/>
    </joint>
    <joint name="FR_Hip">
      <command_interface name="position"/>
      <state_interface name="position">
        <param name="initial_value">0.0</param>
      </state_interface>
      <state_interface name="velocity"/>
      <state_interface name="effort"/>
    </joint>
    <joint name="FL_BotLeg">
      <command_interface name="position"/>
      <state_interface name="position">
        <param name="initial_value">0.0</param>
      </state_interface>
      <state_interface name="velocity"/>
      <state_interface name="effort"/>
    </joint>
    <joint name="FL_TopLeg">
      <command_interface name="position"/>
      <state_interface name="position">
        <param name="initial_value">0.0</param>
      </state_interface>
      <state_interface name="velocity"/>
      <state_interface name="effort"/>
    </joint>
    <joint name="FL_Hip">
      <command_interface name="position"/>
      <state_interface name="position">
        <param name="initial_value">0.0</param>
      </state_interface>
      <state_interface name="velocity"/>
      <state_interface name="effort"/>
    </joint>
  </ros2_control>
  <gazebo>
    <plugin filename="ign_ros2_control-system" name="ign_ros2_control::IgnitionROS2ControlPlugin">
      <parameters>[local-path]/raspi4/ros2_ws/install/servobot/share/servobot/config/catbot_controller.yaml</parameters>
    </plugin>
  </gazebo>
</robot>
